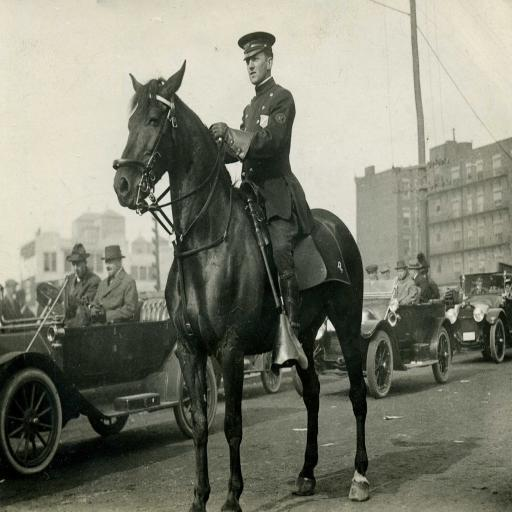horse: (112, 58, 370, 512)
